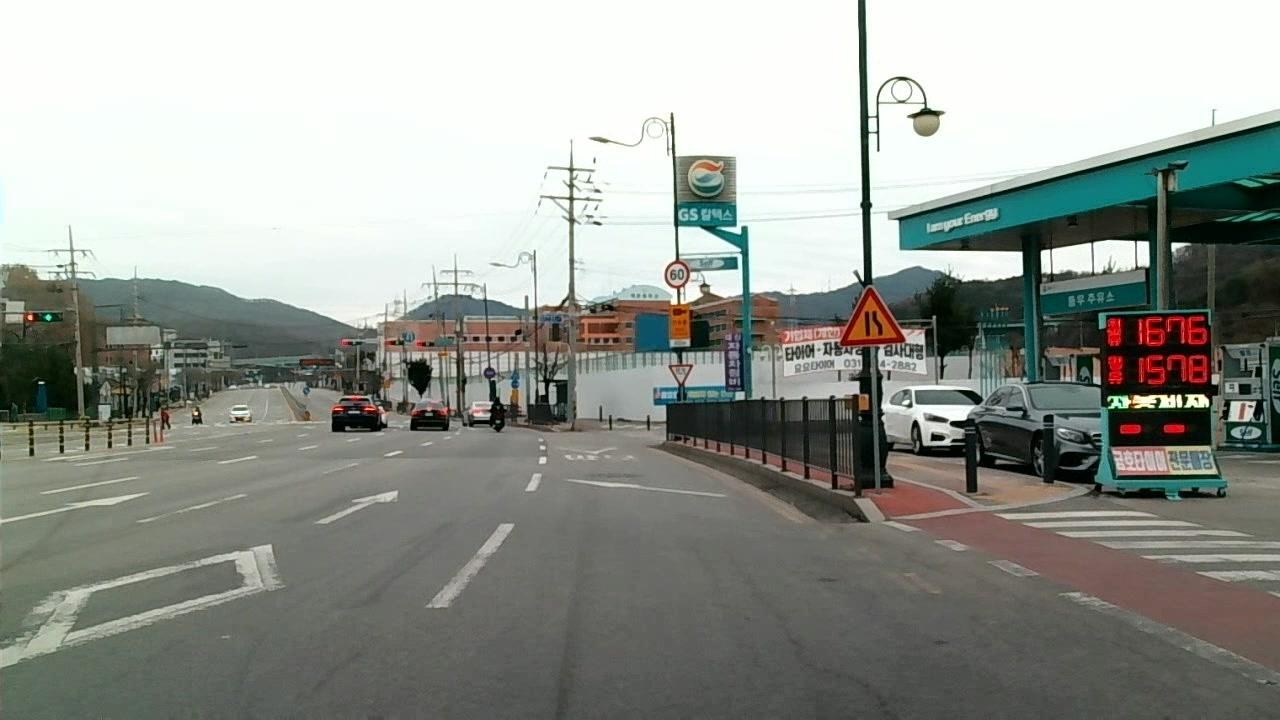vcrack: (781, 630, 896, 719)
